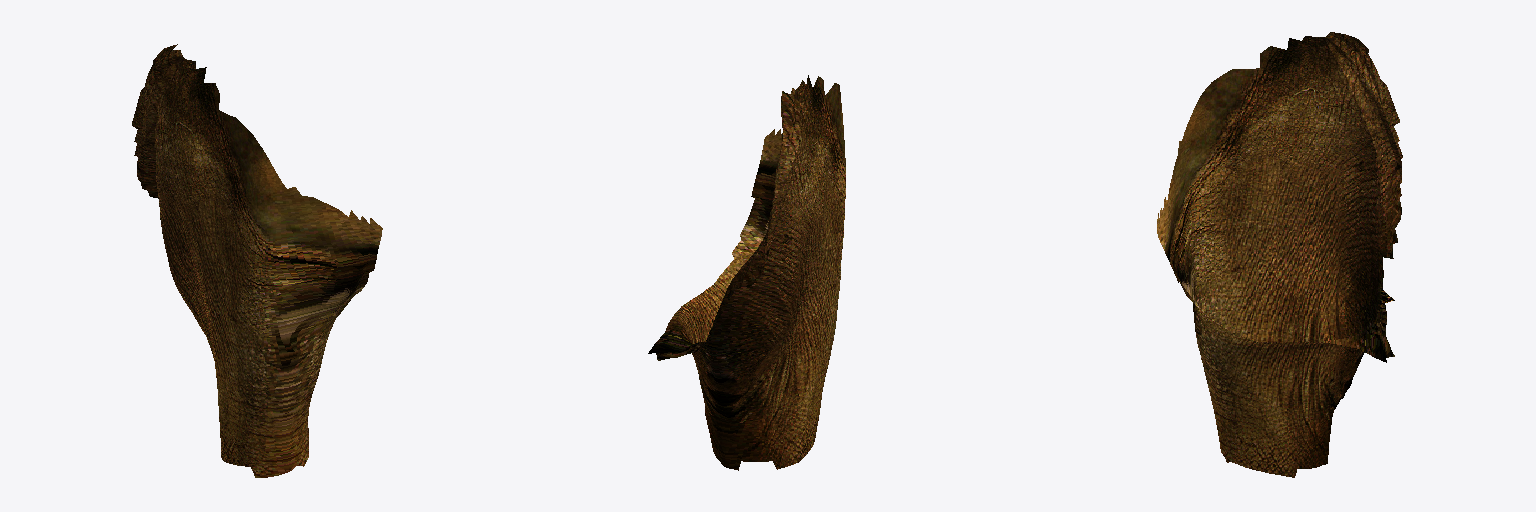
3 renders of one model, left to right at view 1: azimuth 30°, elevation 25°; view 2: azimuth 150°, elevation 25°; view 3: azimuth 270°, elevation 25°, orthographic.
Parts seen in each view (by area): view 1: ele_upper_front_right; view 2: ele_upper_front_right; view 3: ele_upper_front_right.
Part boxes in pixels (left/top/right/bottom): ele_upper_front_right: left=132, top=44, right=382, bottom=477; ele_upper_front_right: left=648, top=75, right=845, bottom=470; ele_upper_front_right: left=1157, top=32, right=1402, bottom=477.
Size of the model in its own units: 1225 by 3450 by 1931.
1 materials, 1 textured.